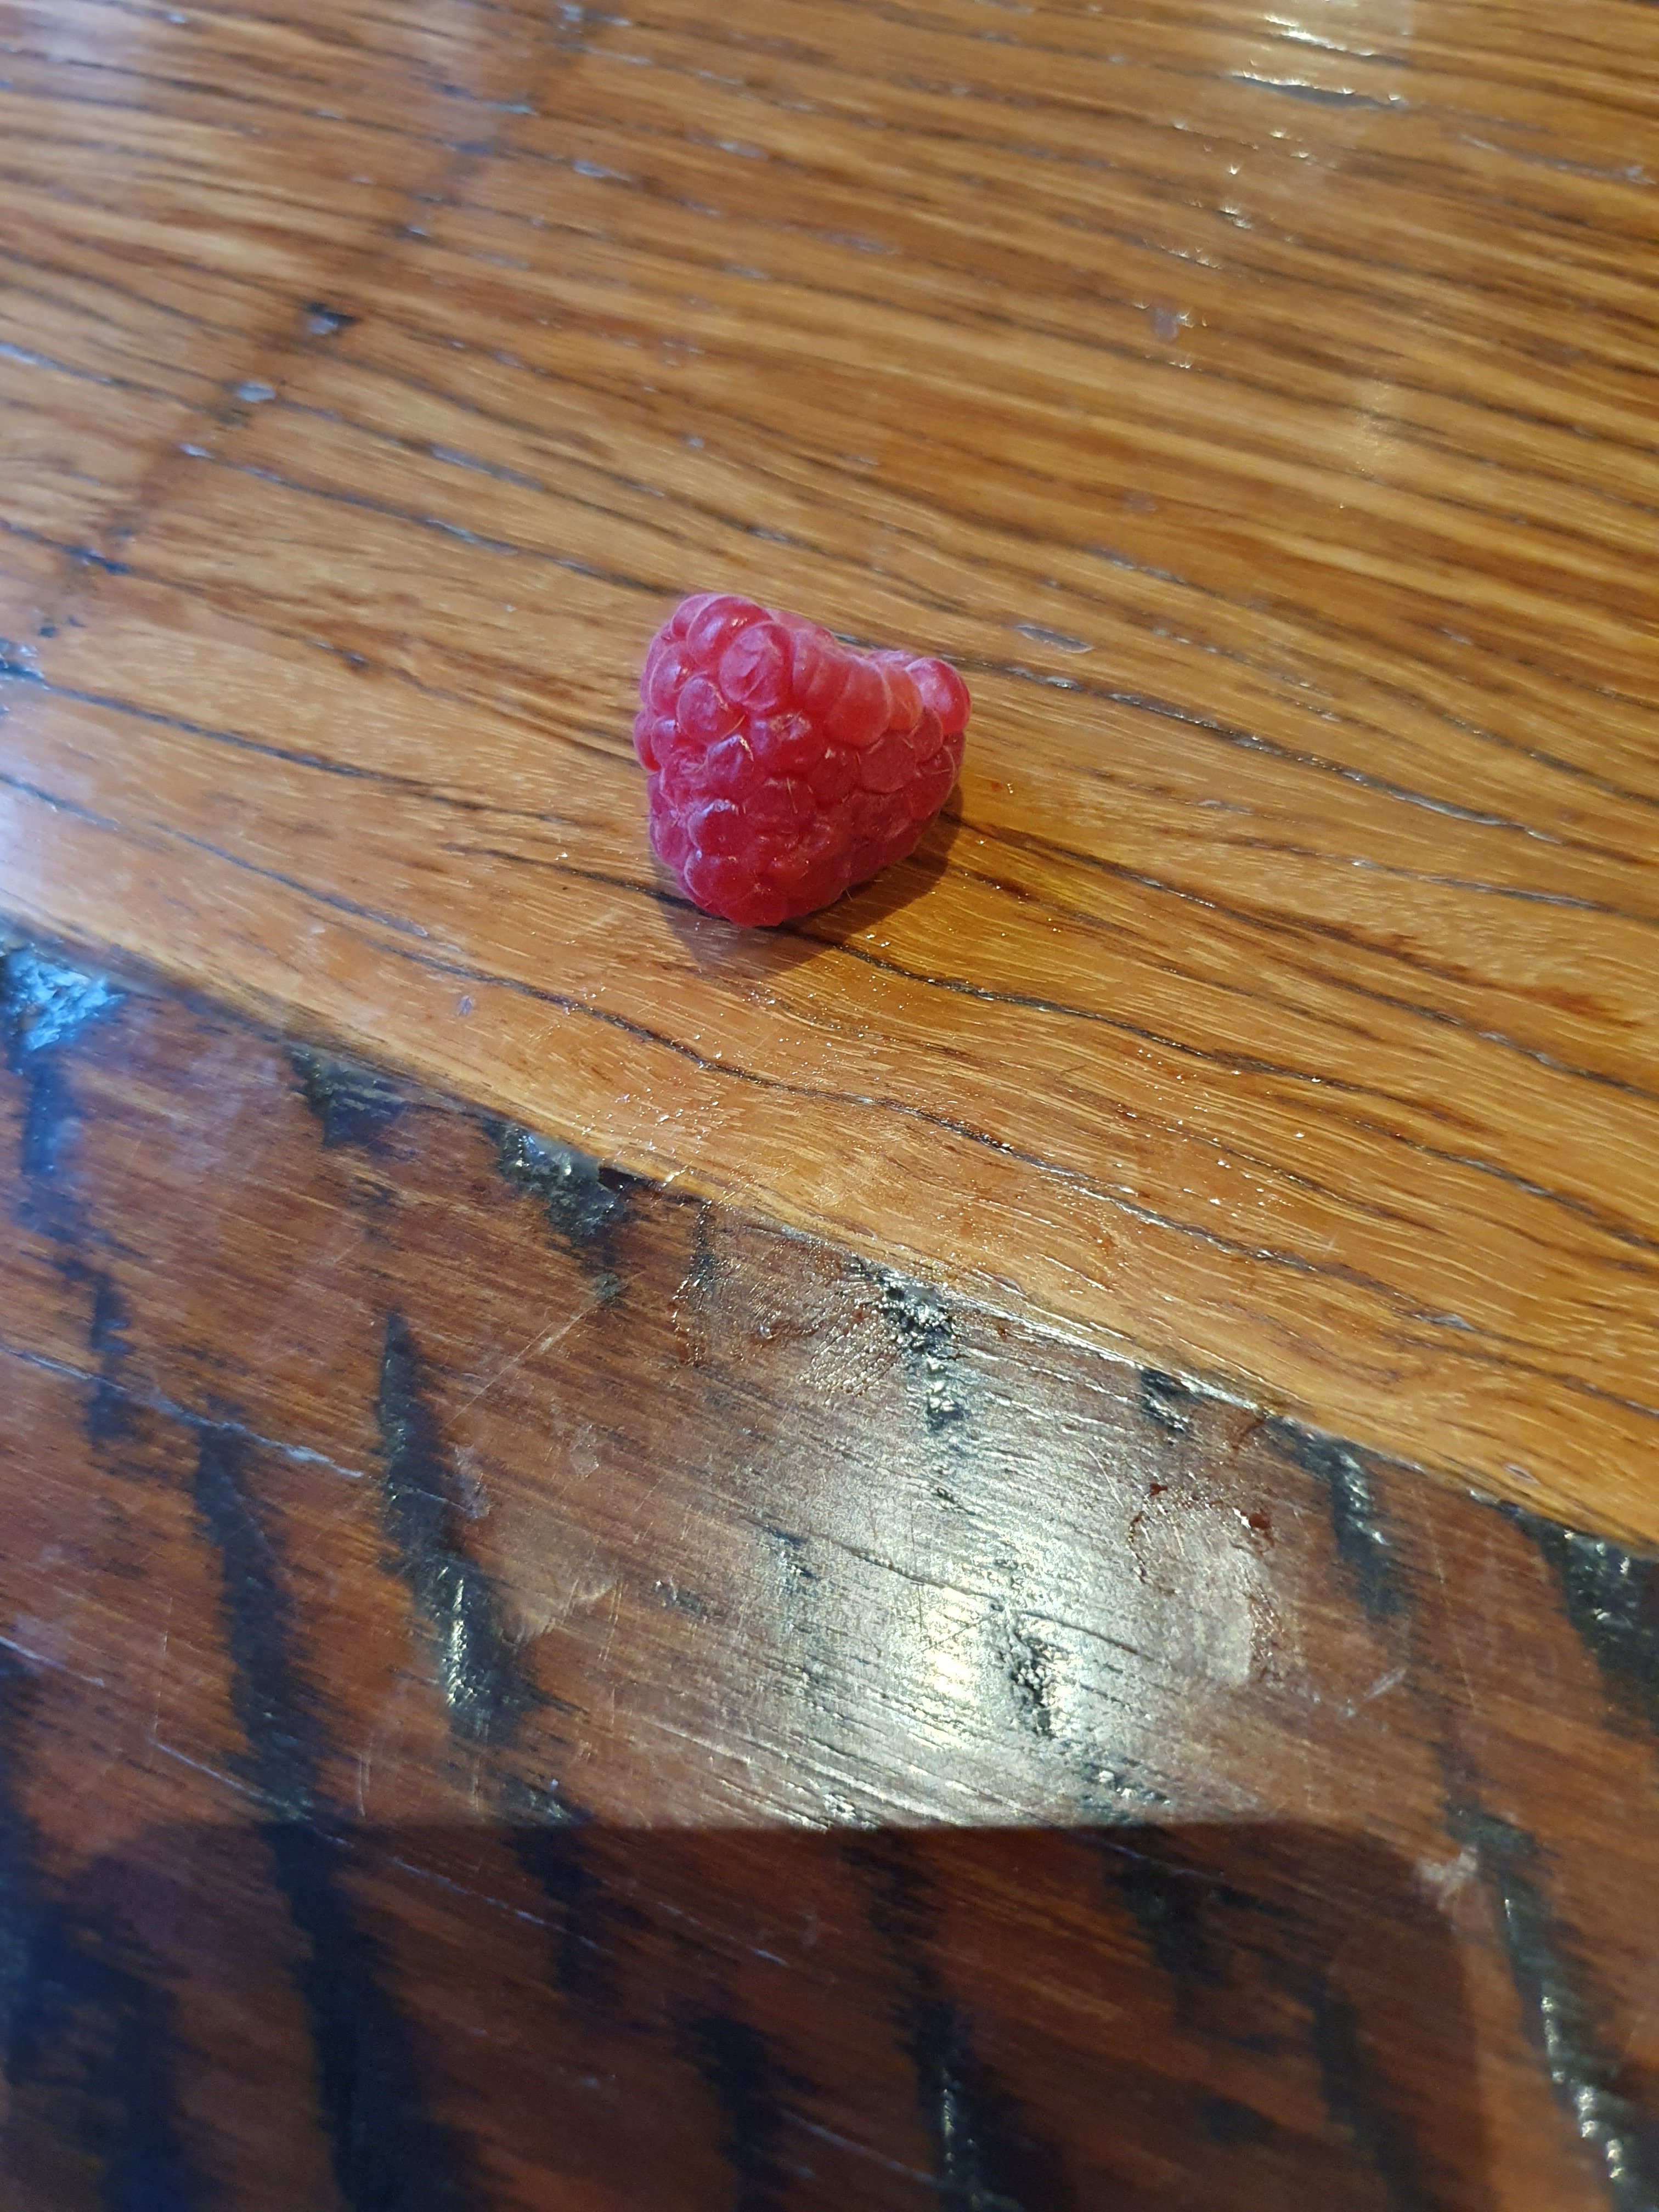raspberry: (622, 578, 1000, 953)
